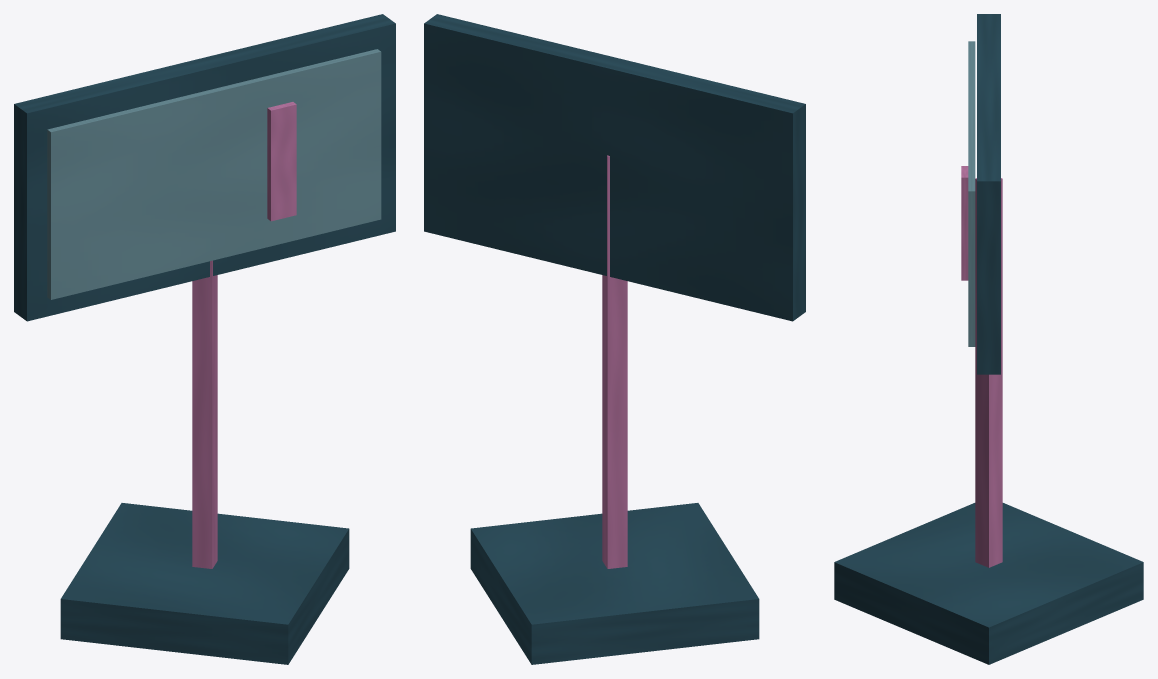
The model's file is atlas100-s063-a11.lod2.glb.
3 views of the same model, side by side, from view 1: azimuth 30°, elevation 25°; view 2: azimuth 150°, elevation 25°; view 3: azimuth 270°, elevation 25° (orthographic). The views are drawn at different scales.
Visible parts, largest first — view 1: atlas100-s063-a11:part-003, atlas100-s063-a11:part-000, atlas100-s063-a11:part-002, atlas100-s063-a11:part-001, atlas100-s063-a11:part-006; view 2: atlas100-s063-a11:part-002, atlas100-s063-a11:part-000, atlas100-s063-a11:part-001; view 3: atlas100-s063-a11:part-000, atlas100-s063-a11:part-002, atlas100-s063-a11:part-001, atlas100-s063-a11:part-003, atlas100-s063-a11:part-006.
Part boxes in pixels (x1=…): atlas100-s063-a11:part-003: x1=47, y1=49, x2=381, y2=299; atlas100-s063-a11:part-000: x1=60, y1=503, x2=349, y2=664; atlas100-s063-a11:part-002: x1=14, y1=14, x2=395, y2=321; atlas100-s063-a11:part-001: x1=192, y1=260, x2=217, y2=568; atlas100-s063-a11:part-006: x1=267, y1=102, x2=296, y2=221; atlas100-s063-a11:part-002: x1=424, y1=14, x2=805, y2=321; atlas100-s063-a11:part-000: x1=470, y1=503, x2=759, y2=664; atlas100-s063-a11:part-001: x1=602, y1=155, x2=627, y2=568; atlas100-s063-a11:part-000: x1=834, y1=503, x2=1143, y2=664; atlas100-s063-a11:part-002: x1=977, y1=14, x2=1000, y2=374; atlas100-s063-a11:part-001: x1=975, y1=178, x2=1002, y2=567; atlas100-s063-a11:part-003: x1=968, y1=41, x2=975, y2=346; atlas100-s063-a11:part-006: x1=961, y1=166, x2=968, y2=280.
Bounding box in the file's own units: 1.15 × 1.61 × 0.9.
Materials: 3 (3 with a texture image).
